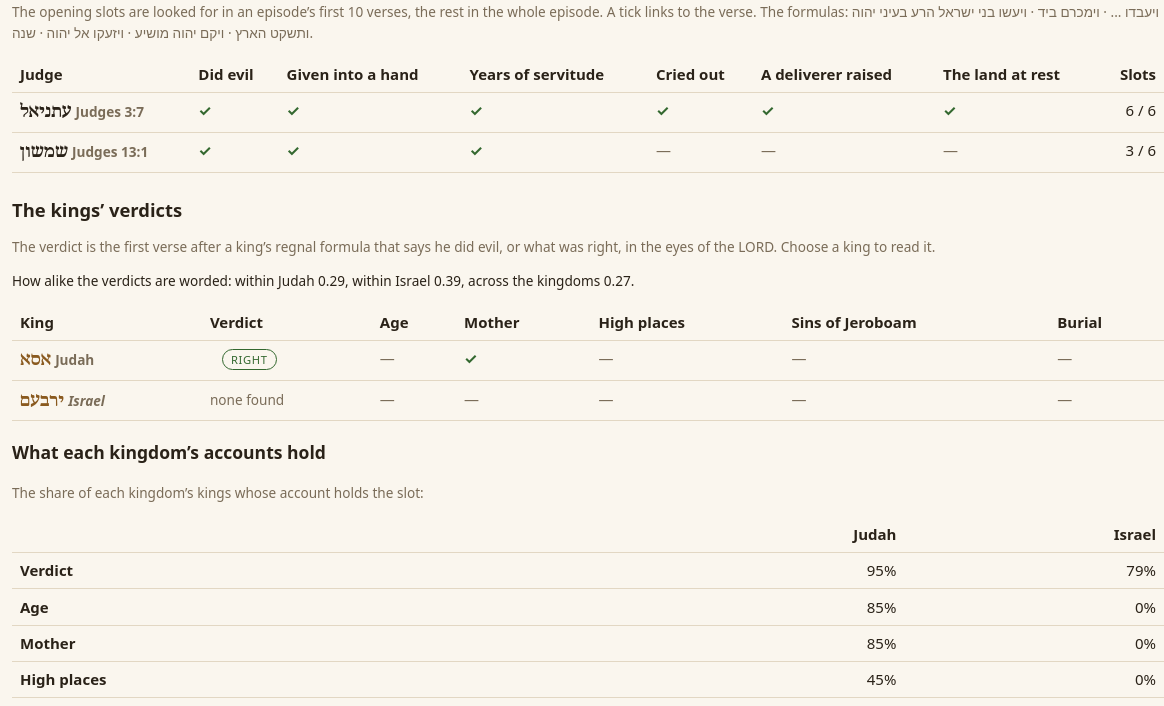
FrameworksPage › lists the kings and opens a verdict
(page scrolled)
Click the button with aria-label "The account of אסא".
click(36, 361)  # box [20, 347, 51, 374]
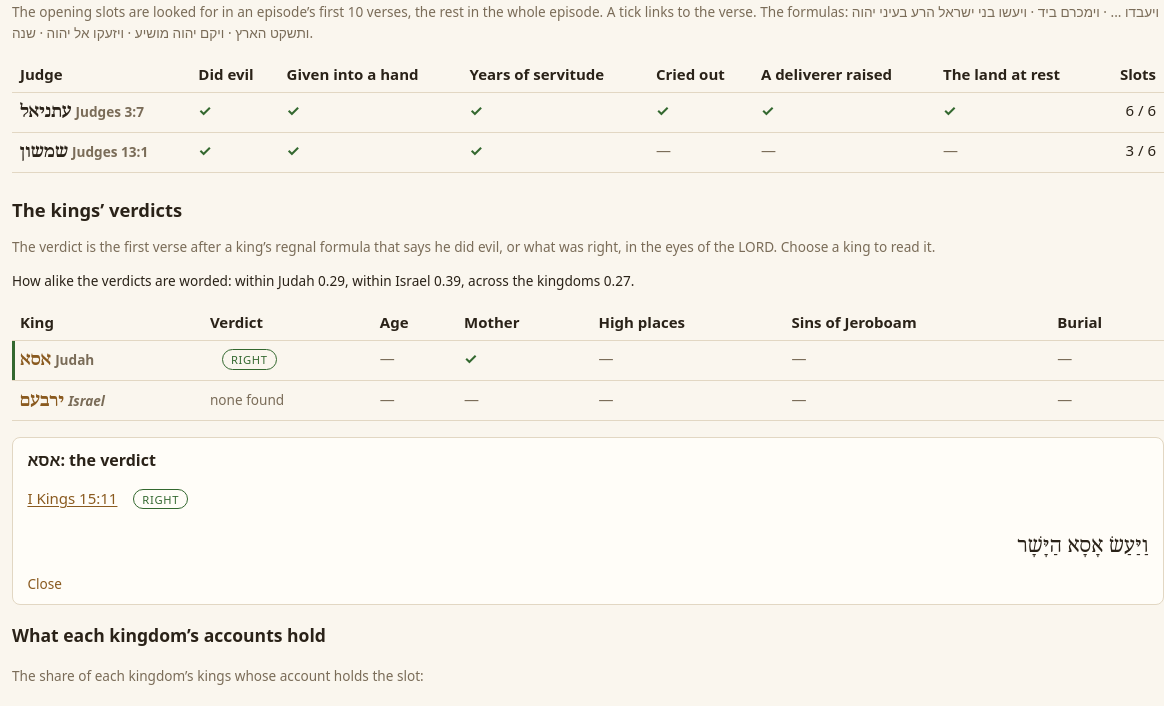
Expected: the row "ירבעם Israel none found — — — — —" is shown, [12, 381, 1163, 421]
Expected: the element with class "fw-panel" shows "I Kings 15:11", [27, 488, 118, 508]
Expected: the text with class "fw-good" next to "I Kings 15:11" reads "right", [142, 492, 179, 506]
